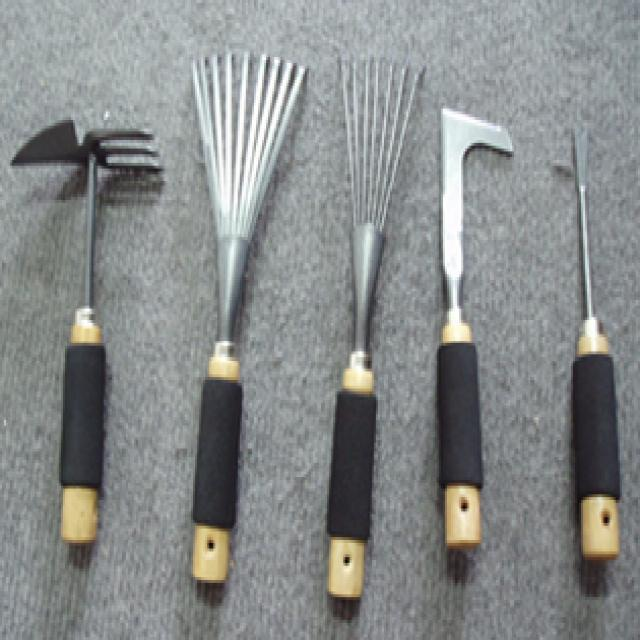screwdriver: (552, 110, 638, 582)
